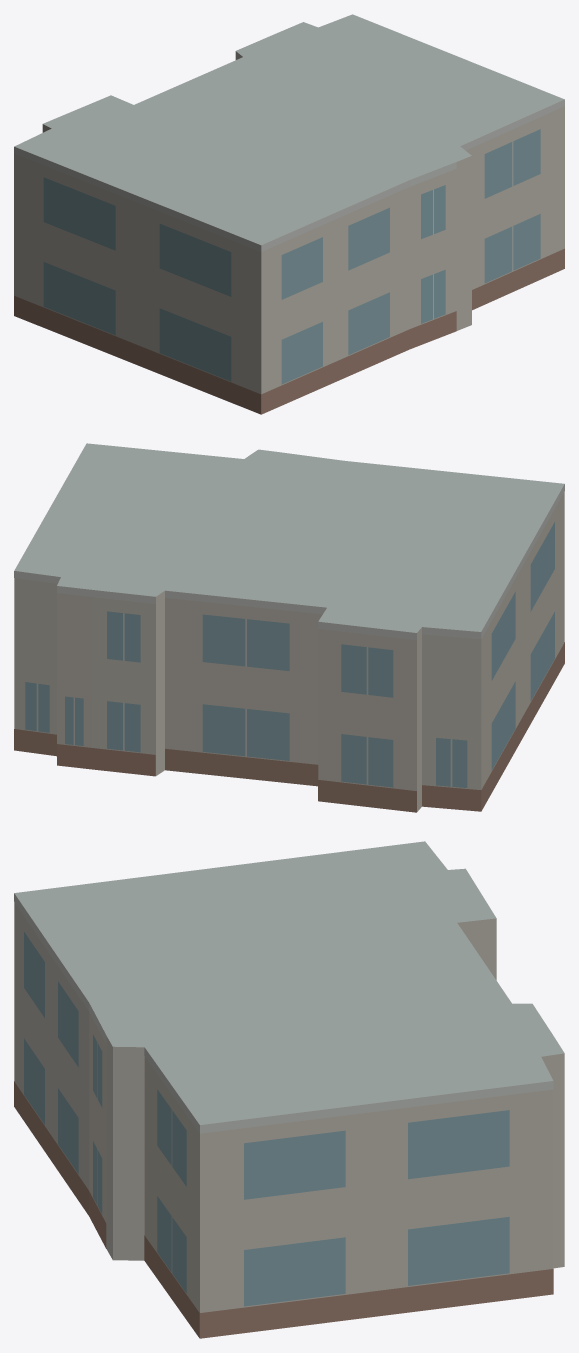
File: survey-upis-32961366.glb
3 renders of one model, top to bottom at view 1: azimuth 30°, elevation 25°; view 2: azimuth 150°, elevation 25°; view 3: azimuth 270°, elevation 25°, orthographic. The views are drawn at different scales.
Parts seen in each view (by area): view 1: survey-upis-32961366.tmp; view 2: survey-upis-32961366.tmp; view 3: survey-upis-32961366.tmp.
Boxes of the visible parts, x1,y1,x2,y2 form: survey-upis-32961366.tmp: (14, 14, 564, 414); survey-upis-32961366.tmp: (14, 443, 564, 812); survey-upis-32961366.tmp: (14, 841, 564, 1338).
Bounding box in the file's own units: 17.41 × 6.1 × 14.27.
